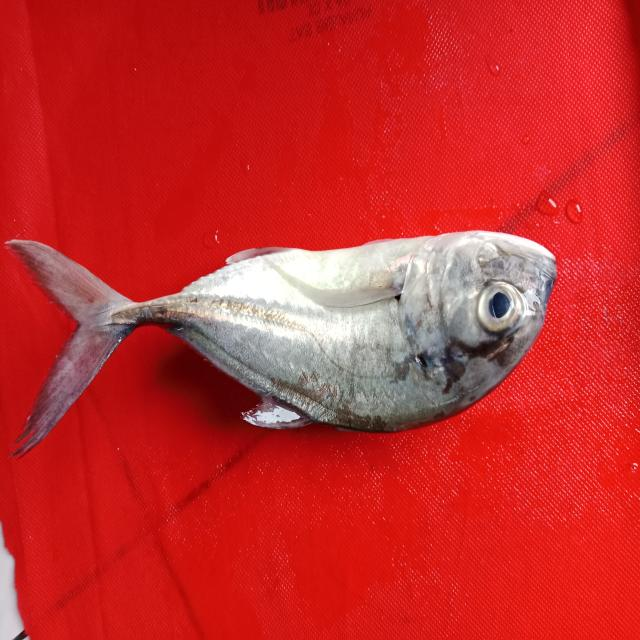ikan: (4, 212, 564, 456)
